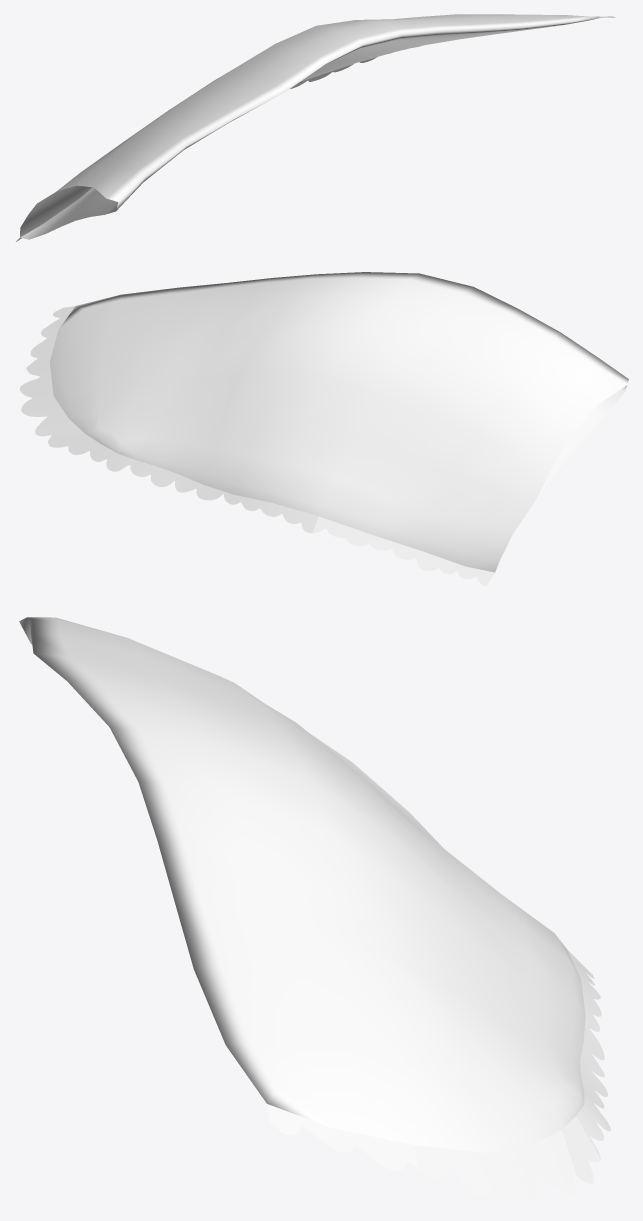
File: wing.fbx
3 renders of one model, top to bottom at view 1: azimuth 30°, elevation 25°; view 2: azimuth 150°, elevation 25°; view 3: azimuth 270°, elevation 25°, orthographic. The views are drawn at different scales.
Parts seen in each view (by area): view 1: Box001.001; view 2: Box001.001; view 3: Box001.001.
Boxes of the visible parts, x1=… form: Box001.001: x1=16, y1=14, x2=615, y2=241; Box001.001: x1=20, y1=272, x2=628, y2=586; Box001.001: x1=19, y1=617, x2=610, y2=1202.
Size of the model in its own units: 45.07 by 16.06 by 22.46.
1 material, 1 textured.
